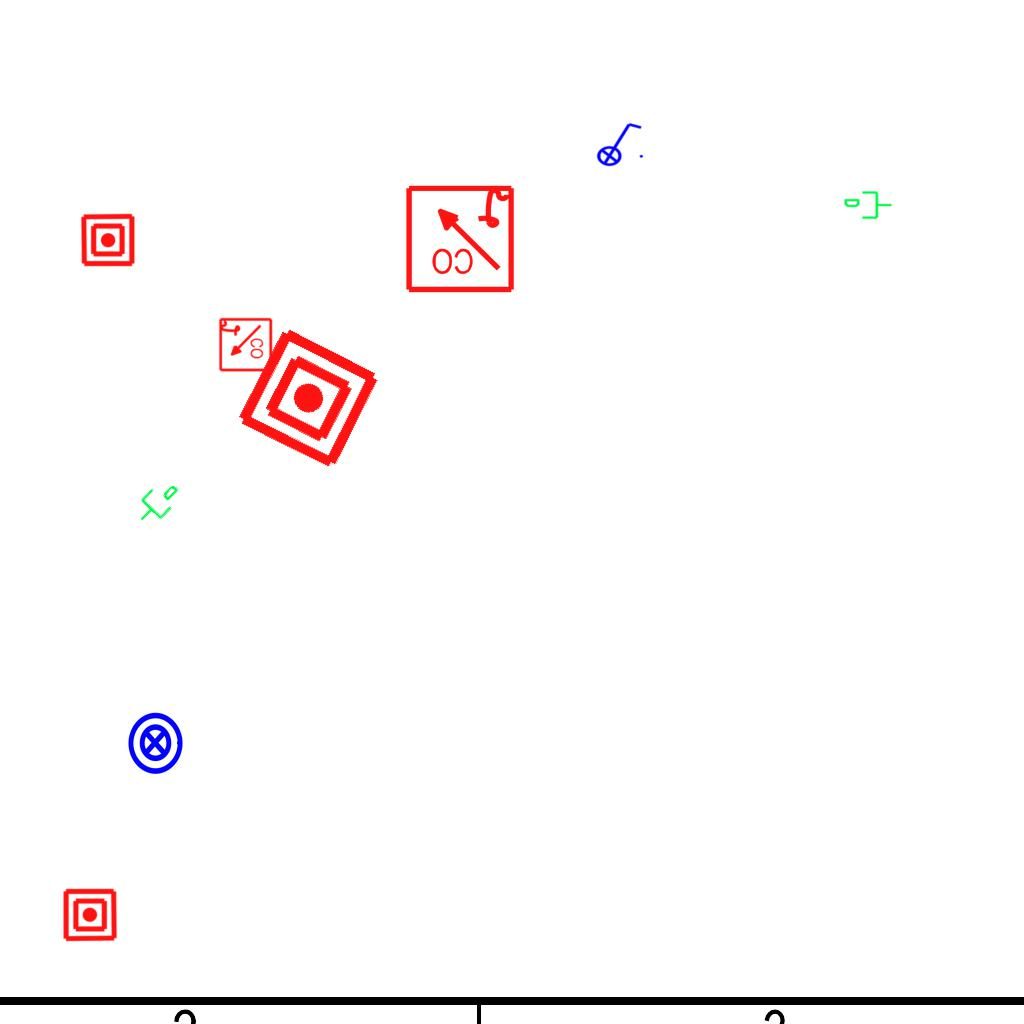Ausschalter_beleuchtet: (590, 119, 646, 167)
Datenanschluss_einfach: (127, 472, 187, 532), (843, 189, 893, 223)
NAM-Nichtautomatischer_Melder: (232, 322, 385, 475), (80, 212, 136, 268), (62, 887, 118, 943)
ROA_Rauchmelder_optisch_mit_Signalgeber_(Sockelsirene): (403, 181, 516, 294), (217, 317, 273, 373)
Taster_beleuchtet: (122, 710, 188, 776)
